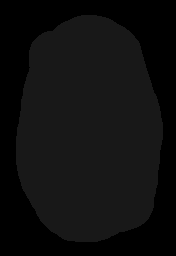fp: (6, 1, 168, 246)
